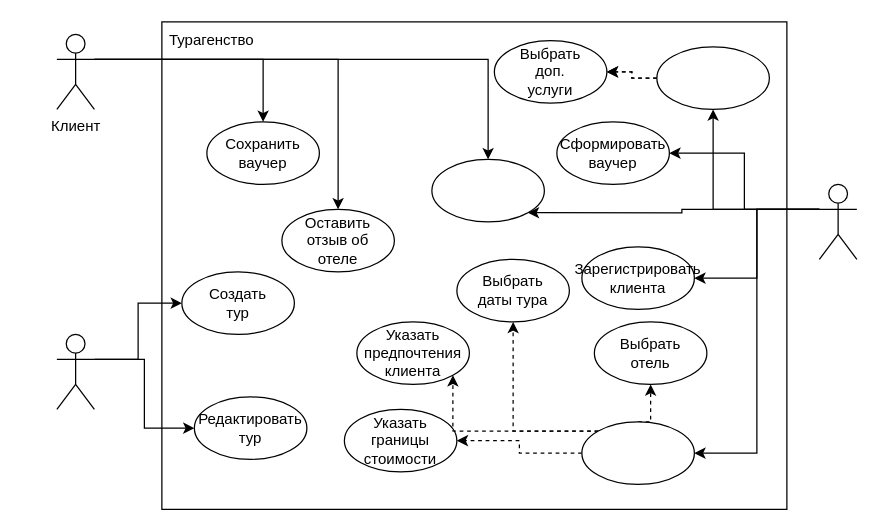
Some shapes in this 896 by 531 pixel diagram are drawn without their labels. Here are the shapes that lost their labels. From the top down, the centre of each, then its label:
the point at 712,77: Зарегистрировать заявку
the point at 487,190: Получить информацию о заявке
the point at 837,221: Менеджер
the point at 75,371: Администратор
the point at 637,452: Подобрать тур
